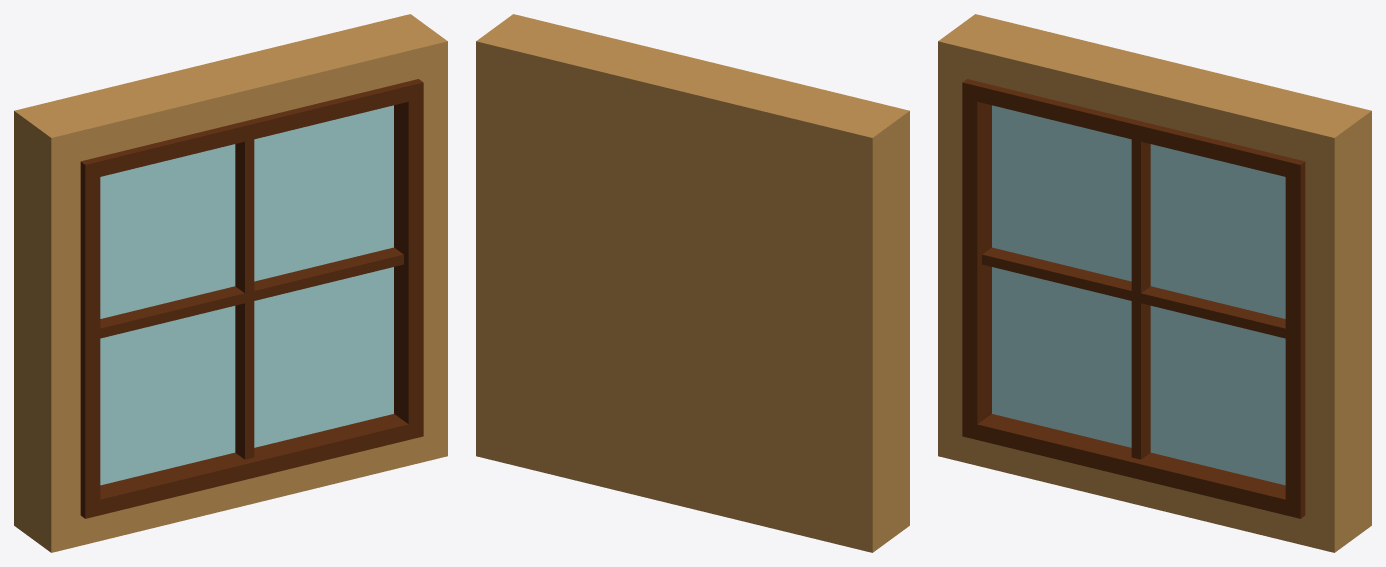
File: window.fbx
The picture shows the model from 3 angles, left to right: view 1: azimuth 30°, elevation 25°; view 2: azimuth 150°, elevation 25°; view 3: azimuth 330°, elevation 25°; orthographic projection.
Parts seen in each view (by area): view 1: Cube.001; view 2: Cube.001; view 3: Cube.001.
Part boxes in pixels (left/top/right/bottom): Cube.001: left=14, top=14, right=447, bottom=552; Cube.001: left=476, top=14, right=909, bottom=552; Cube.001: left=938, top=14, right=1371, bottom=552.
Size of the model in its own units: 559 by 559 by 103.
